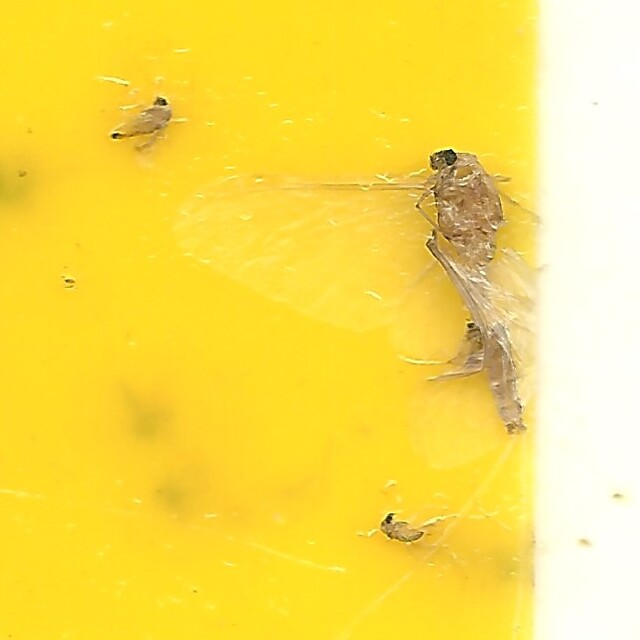Ephemeroptera: (159, 142, 540, 445)
Nematocera: (100, 93, 179, 188), (358, 515, 453, 547)
